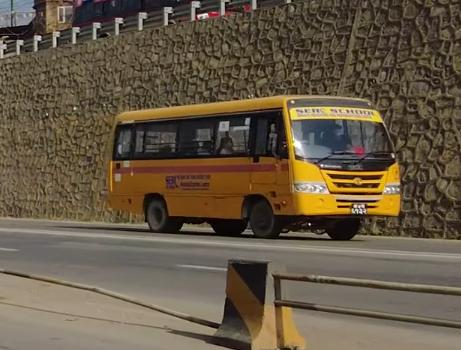school_bus: (106, 92, 404, 244)
